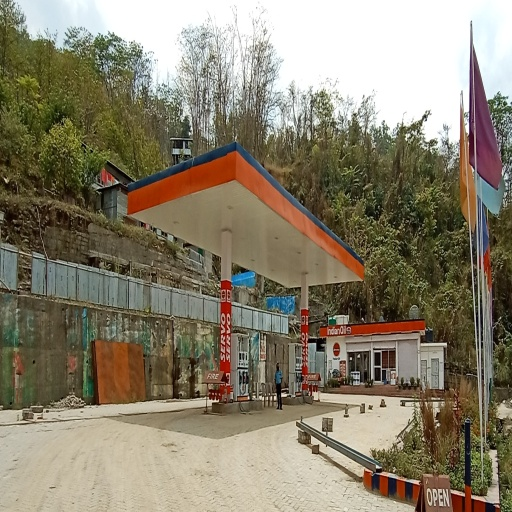roof: (128, 143, 362, 287)
